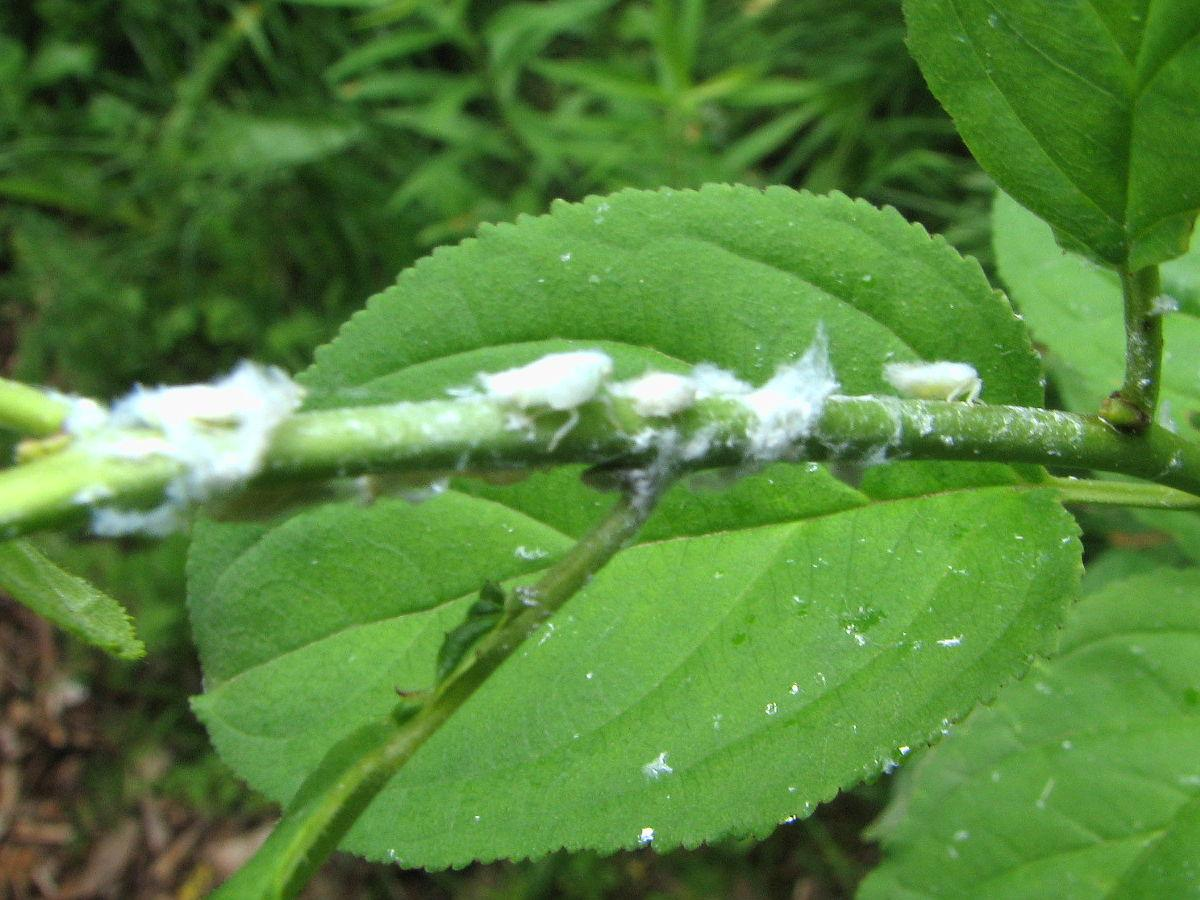pseudococcidae: (60, 309, 1076, 552)
